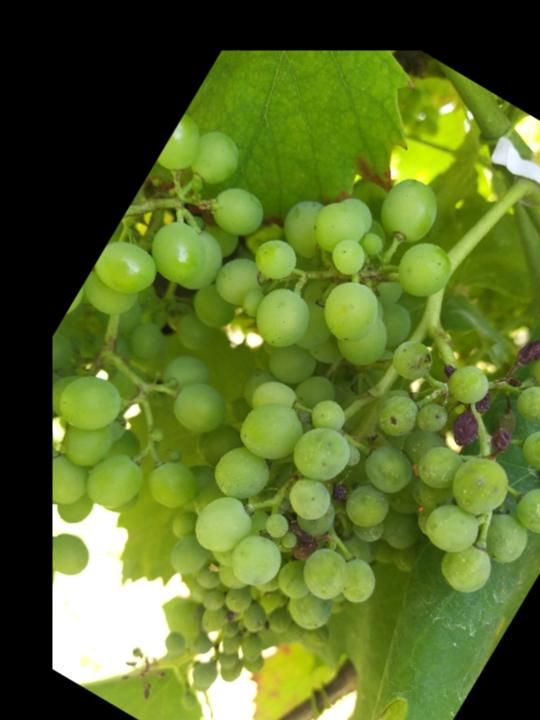grape: (76, 115, 540, 720)
